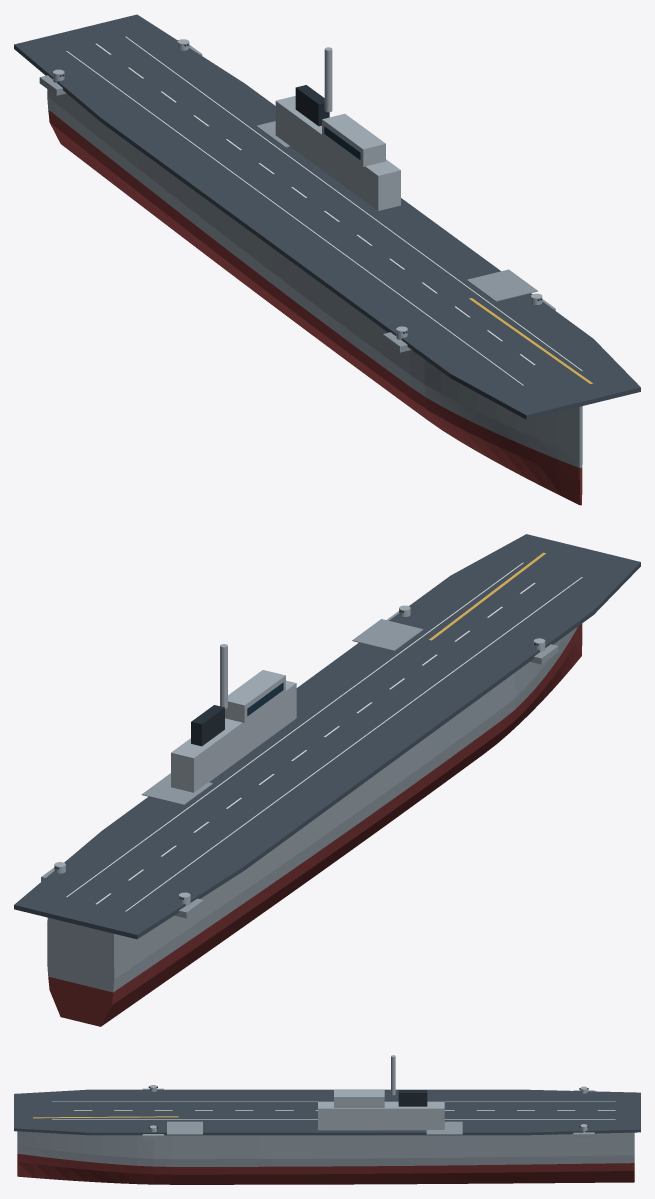
Rendered from ran_cvl_sydney_1948.obj.
3 renders of one model, top to bottom at view 1: azimuth 30°, elevation 25°; view 2: azimuth 150°, elevation 25°; view 3: azimuth 270°, elevation 25°, orthographic. The views are drawn at different scales.
Visible parts, largest first — view 1: FlightDeck, Hull, UnderwaterHull, Island, Bridge, Elevator_1, Funnel, LandingEdge_-1, LandingEdge_1; view 2: FlightDeck, Hull, UnderwaterHull, Island, Bridge, Elevator_1, Funnel, Elevator_2, LandingEdge_1, LandingEdge_-1; view 3: FlightDeck, Hull, UnderwaterHull, Island, Bridge, Funnel, Elevator_1, LandingEdge_1, LandingEdge_-1, Elevator_2, Catapult_1.
Part boxes in pixels (box(x1,y1,x2,y2)): FlightDeck: box(14, 14, 640, 419); Hull: box(47, 89, 582, 467); UnderwaterHull: box(48, 110, 582, 505); Island: box(275, 96, 400, 210); Bridge: box(322, 113, 385, 166); Elevator_1: box(467, 269, 537, 301); Funnel: box(295, 85, 329, 126); LandingEdge_-1: box(66, 51, 523, 385); LandingEdge_1: box(125, 36, 582, 370); FlightDeck: box(14, 534, 640, 939); Hull: box(47, 627, 577, 992); UnderwaterHull: box(48, 623, 582, 1026); Island: box(171, 680, 296, 792); Bridge: box(225, 670, 285, 722); Elevator_1: box(352, 619, 423, 651); Funnel: box(191, 705, 224, 746); Elevator_2: box(141, 773, 212, 805); LandingEdge_1: box(66, 562, 523, 897); LandingEdge_-1: box(125, 577, 582, 911); FlightDeck: box(14, 1089, 640, 1135); Hull: box(17, 1131, 634, 1166); UnderwaterHull: box(17, 1153, 634, 1184); Island: box(318, 1101, 444, 1130); Bridge: box(334, 1090, 384, 1107); Funnel: box(398, 1090, 427, 1106); Elevator_1: box(167, 1121, 202, 1134); LandingEdge_1: box(52, 1119, 615, 1119); LandingEdge_-1: box(52, 1101, 615, 1101); Elevator_2: box(426, 1121, 462, 1134); Catapult_1: box(33, 1116, 178, 1118).
Size of the model in its own units: 37.42 by 50.5 by 209.
